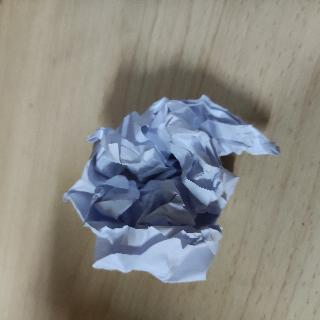8/可回收垃圾/纸: (61, 92, 281, 284)
